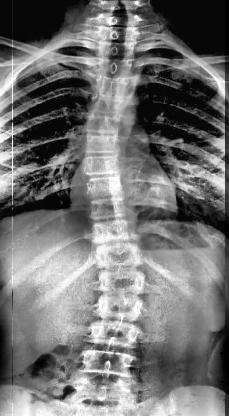Vertebrae: (80, 348, 133, 380), (96, 244, 146, 271), (94, 295, 146, 320), (90, 323, 140, 348), (98, 269, 148, 294), (97, 72, 134, 100), (92, 221, 140, 242), (92, 92, 130, 116), (87, 176, 129, 197), (85, 114, 125, 136), (89, 198, 128, 219), (86, 132, 120, 156), (82, 158, 121, 178), (98, 39, 136, 59), (96, 58, 134, 76), (100, 25, 138, 43)
